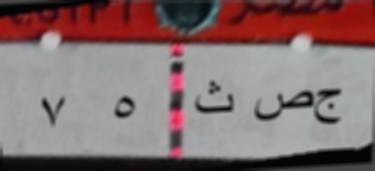5: (107, 91, 138, 129)
7: (37, 93, 68, 132)
jeem: (314, 82, 348, 128)
saad: (252, 86, 312, 131)
thaa: (191, 77, 236, 121)
